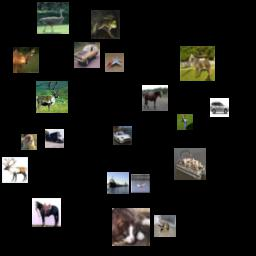airplane: (131, 174, 150, 193), (105, 53, 124, 72)
automobile: (74, 42, 100, 68), (210, 98, 229, 117), (113, 126, 132, 145)
bird: (37, 2, 69, 34), (177, 114, 193, 130)
cat: (112, 208, 150, 246), (154, 215, 176, 237)
deer: (36, 81, 68, 113), (2, 157, 28, 183), (13, 47, 39, 73)
dog: (21, 134, 37, 150)
frog: (91, 10, 120, 39)
ship: (174, 148, 206, 180), (107, 172, 129, 194)
truck: (45, 129, 64, 148)
